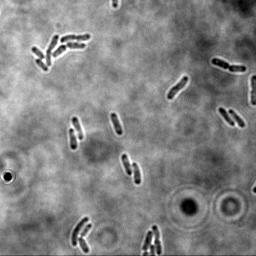Dividing: (210, 56, 247, 74), (248, 73, 256, 106)
Microcolony: (30, 32, 92, 72)
Rod: (70, 216, 90, 248), (166, 75, 189, 100), (227, 109, 246, 129), (70, 116, 85, 141), (109, 112, 124, 137), (218, 107, 235, 128), (120, 153, 133, 176), (141, 230, 154, 252), (132, 161, 142, 186), (68, 128, 78, 152), (77, 236, 90, 254), (78, 223, 93, 238)
